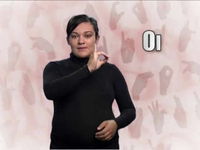oi: (86, 44, 109, 69)
